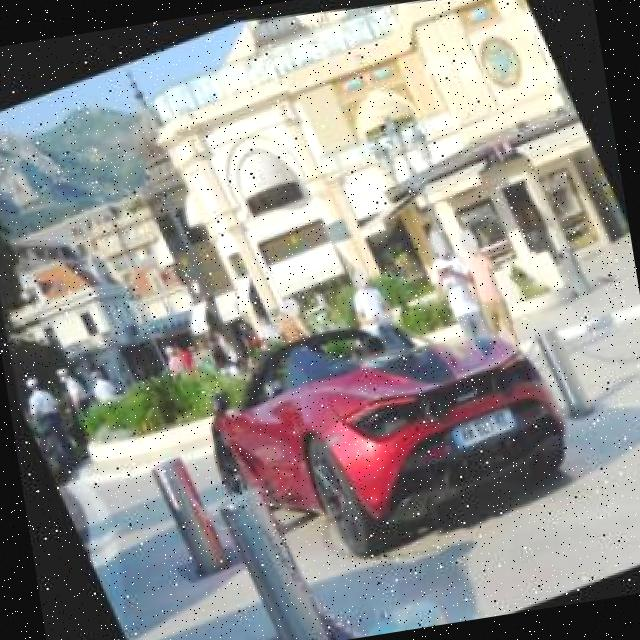Autre: (455, 403, 522, 451)
